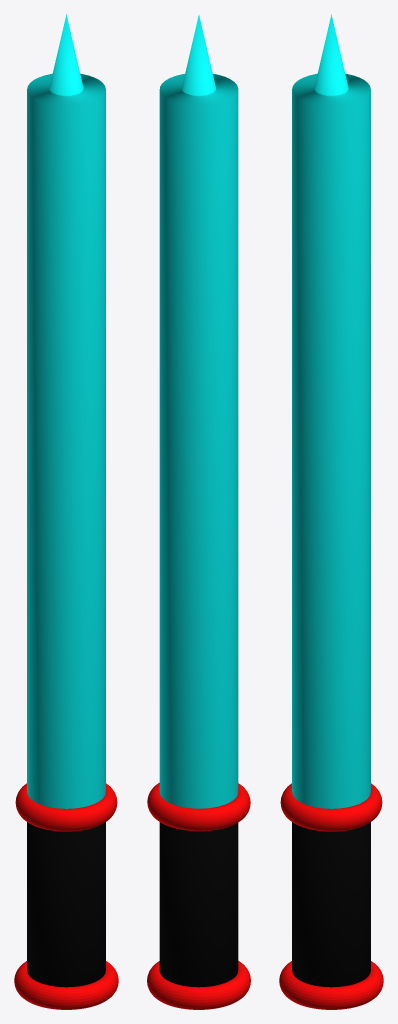
File: neon light.fbx
The picture shows the model from 3 angles, left to right: view 1: azimuth 90°, elevation 25°; view 2: azimuth 150°, elevation 25°; view 3: azimuth 270°, elevation 25°; orthographic projection.
Visible parts, largest first — view 1: Cylinder, Cylinder.002, Torus.003, Torus.001, Cylinder.003; view 2: Cylinder, Cylinder.002, Torus.003, Torus.001, Cylinder.003; view 3: Cylinder, Cylinder.002, Torus.003, Torus.001, Cylinder.003.
Part boxes in pixels (bbox=[...]): Cylinder: bbox=[27, 73, 105, 808]; Cylinder.002: bbox=[27, 822, 105, 987]; Torus.003: bbox=[14, 961, 118, 1009]; Torus.001: bbox=[15, 783, 117, 831]; Cylinder.003: bbox=[49, 14, 83, 96]; Cylinder: bbox=[159, 74, 238, 808]; Cylinder.002: bbox=[159, 822, 238, 987]; Torus.003: bbox=[147, 961, 250, 1009]; Torus.001: bbox=[147, 782, 250, 831]; Cylinder.003: bbox=[181, 15, 216, 96]; Cylinder: bbox=[292, 73, 370, 808]; Cylinder.002: bbox=[292, 822, 370, 987]; Torus.003: bbox=[279, 961, 383, 1009]; Torus.001: bbox=[280, 783, 382, 831]; Cylinder.003: bbox=[314, 14, 348, 96].
Size of the model in its own units: 52.76 by 548 by 53.11.
